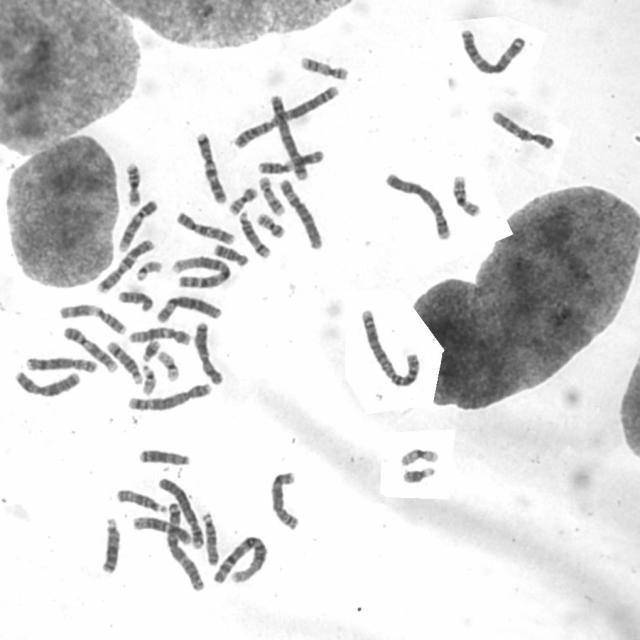A1: (210, 534, 270, 588), (170, 256, 231, 292)
A2: (232, 85, 339, 150), (358, 306, 421, 389)
A3: (165, 501, 207, 593), (457, 26, 530, 77)
B4: (383, 172, 451, 240), (156, 476, 205, 549)
B5: (270, 94, 310, 181), (128, 381, 211, 413)
C10: (489, 107, 556, 153), (175, 211, 236, 245)
C11: (58, 302, 127, 337), (256, 146, 325, 174)
C12: (131, 516, 192, 545), (128, 327, 192, 346)
C6: (278, 178, 324, 250), (156, 296, 224, 323)
C7: (95, 238, 156, 296), (195, 132, 228, 204)
C8: (270, 468, 300, 531), (25, 356, 99, 374)
C9: (63, 324, 119, 372), (116, 199, 158, 253)
D13: (100, 516, 124, 574), (138, 447, 192, 467)
D14: (104, 340, 144, 386), (238, 211, 272, 259)
D15: (115, 487, 168, 514), (200, 510, 220, 566)
E16: (452, 173, 481, 218), (125, 162, 142, 208)
E17: (299, 56, 350, 82), (257, 176, 286, 216)
E18: (211, 241, 251, 268), (118, 289, 155, 313)
F19: (396, 446, 441, 466), (156, 349, 181, 383)
F20: (227, 187, 258, 216), (256, 212, 288, 239)
G21: (402, 466, 436, 484), (142, 338, 161, 362)
G22: (140, 363, 158, 396), (136, 260, 163, 282)
X: (13, 370, 82, 401), (193, 320, 224, 386)
